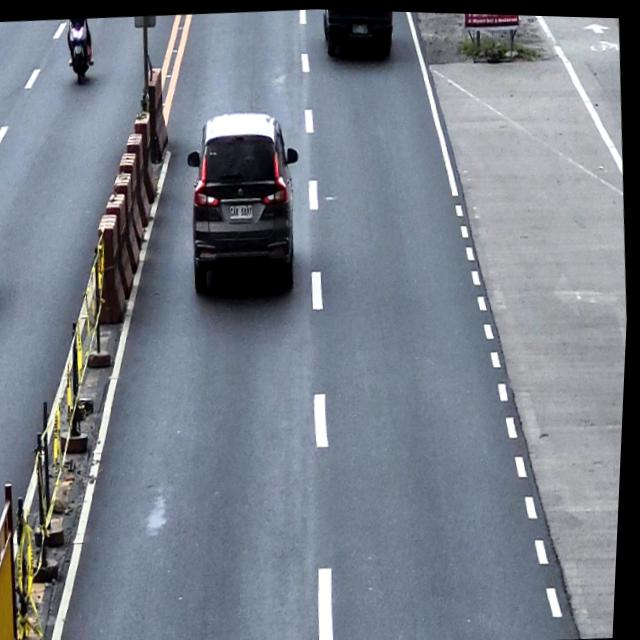Car: (179, 105, 312, 305), (318, 7, 396, 65)
License-Plate: (229, 201, 256, 220), (350, 19, 370, 33)
Motorcycle: (63, 17, 98, 86)
